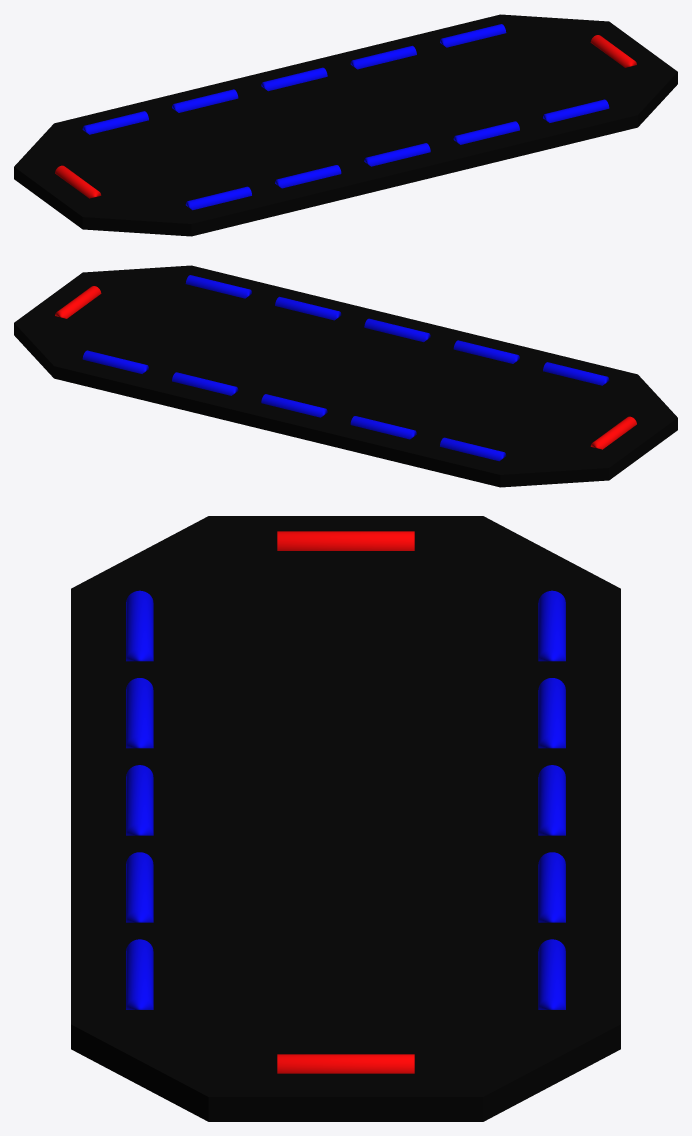
Rendered from WalkPath.glb.
3 renders of one model, top to bottom at view 1: azimuth 30°, elevation 25°; view 2: azimuth 150°, elevation 25°; view 3: azimuth 270°, elevation 25°, orthographic. The views are drawn at different scales.
Visible parts, largest first — view 1: Cube.007, Cylinder.001, Cylinder.011, Cylinder.003, Cylinder.009, Cylinder.010, Cylinder.008, Cylinder.004, Cylinder.005, Cylinder.006, Cylinder.007, Cylinder (+1 smaller); view 2: Cube.007, Cylinder.003, Cylinder.010, Cylinder.001, Cylinder.008, Cylinder.011, Cylinder.009, Cylinder.005, Cylinder.004, Cylinder.006, Cylinder.007, Cylinder (+1 smaller); view 3: Cube.007, Cylinder, Cylinder.002, Cylinder.008, Cylinder.009, Cylinder.010, Cylinder.011, Cylinder.001, Cylinder.003, Cylinder.004, Cylinder.005, Cylinder.006 (+1 smaller).
Boxes of the visible parts, x1,y1,x2,y2 form: Cube.007: (14,14,677,236); Cylinder.001: (364,143,430,166); Cylinder.011: (172,89,238,112); Cylinder.003: (261,67,327,91); Cylinder.009: (82,111,148,134); Cylinder.010: (275,165,341,188); Cylinder.008: (185,186,251,210); Cylinder.004: (453,121,519,144); Cylinder.005: (350,45,416,69); Cylinder.006: (543,99,609,122); Cylinder.007: (440,24,506,47); Cylinder: (55,165,101,198); Cube.007: (14,265,677,487); Cylinder.003: (261,394,327,417); Cylinder.010: (453,340,519,363); Cylinder.001: (364,318,430,342); Cylinder.008: (543,362,609,385); Cylinder.011: (350,416,416,439); Cylinder.009: (440,437,506,461); Cylinder.005: (172,372,238,395); Cylinder.004: (275,296,341,320); Cylinder.006: (185,275,251,298); Cylinder.007: (82,350,148,373); Cylinder: (590,416,636,449); Cube.007: (71,516,620,1121); Cylinder: (277,531,414,550); Cylinder.002: (277,1054,414,1073); Cylinder.008: (126,590,153,661); Cylinder.009: (538,590,565,661); Cylinder.010: (126,678,153,748); Cylinder.011: (538,678,565,748); Cylinder.001: (126,765,153,835); Cylinder.003: (538,765,565,835); Cylinder.004: (126,852,153,922); Cylinder.005: (538,852,565,922); Cylinder.006: (126,939,153,1009).
Size of the model in its own units: 20 by 0.6 by 8.
